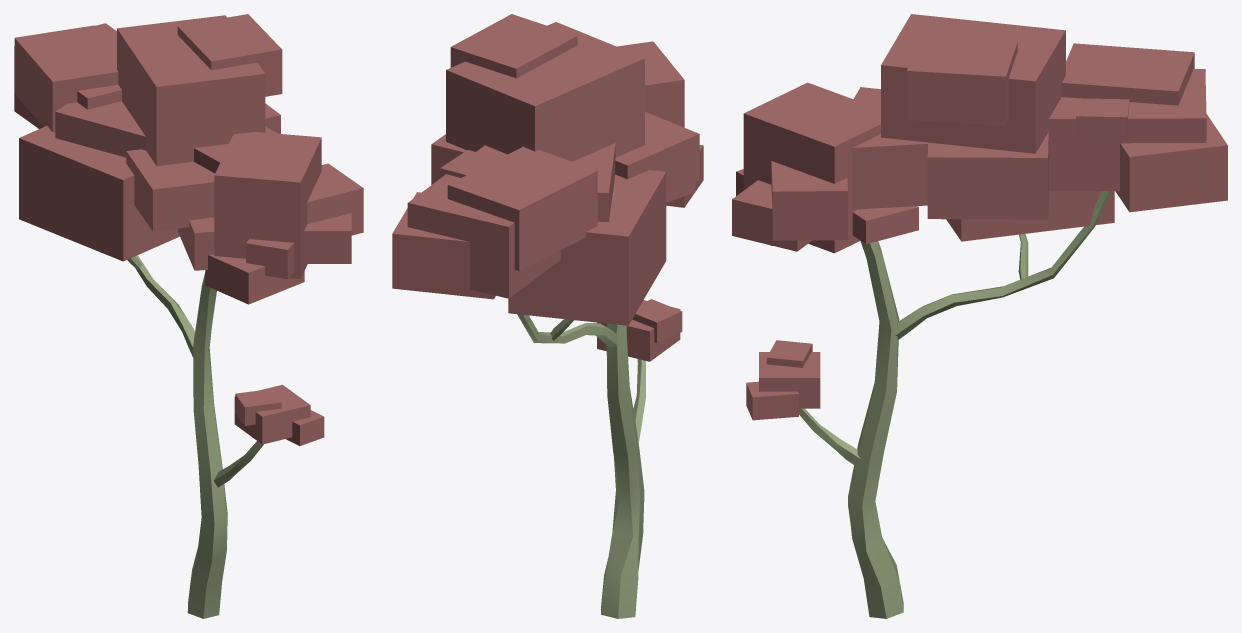
The model's file is SM_Tree_Jungle_A.fbx.
3 views of the same model, side by side, from view 1: azimuth 30°, elevation 25°; view 2: azimuth 150°, elevation 25°; view 3: azimuth 270°, elevation 25° (orthographic). The views are drawn at different scales.
Parts seen in each view (by area): view 1: SM_Tree_A; view 2: SM_Tree_A; view 3: SM_Tree_A.
Boxes of the visible parts, x1,y1,x2,y2 form: SM_Tree_A: (14,14,363,618); SM_Tree_A: (392,14,703,618); SM_Tree_A: (732,14,1227,618).
Size of what is drawn, in the model's own units: 320 by 793 by 605.
